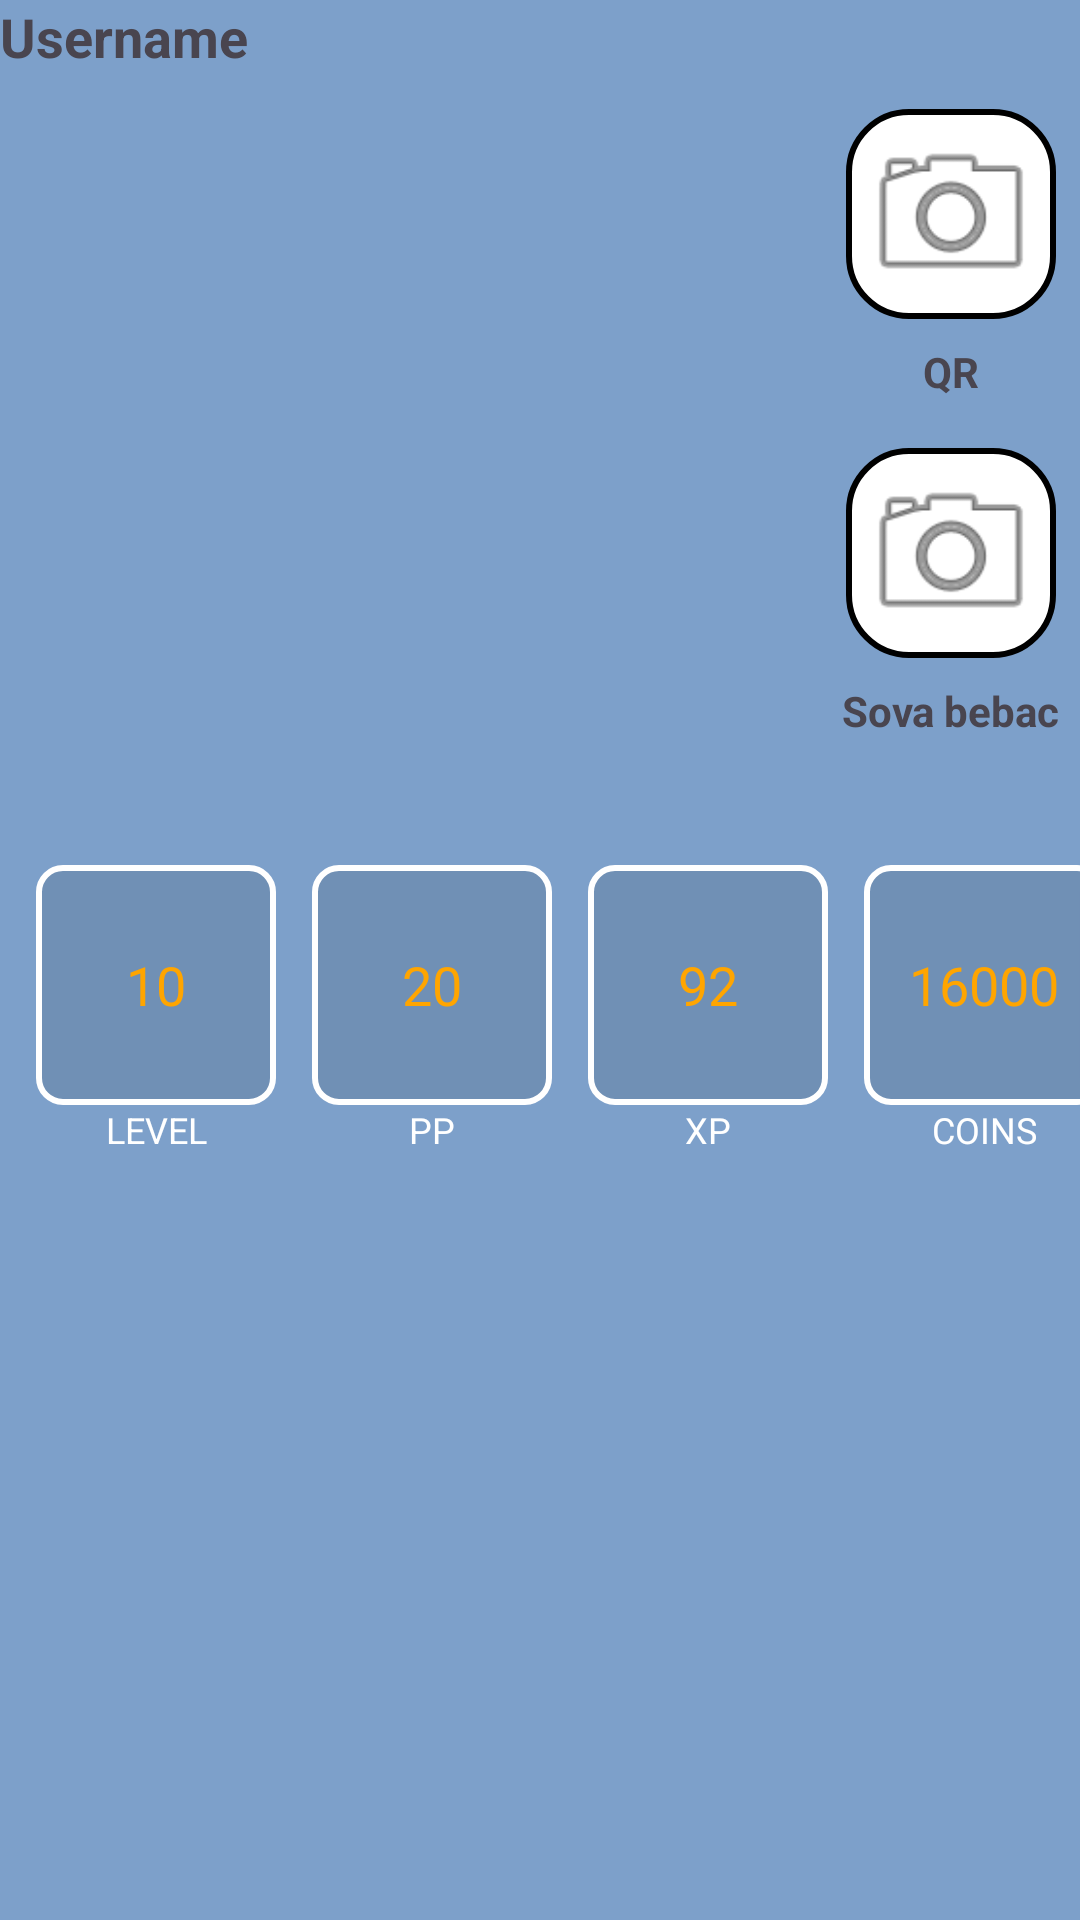

Point at icon controls on the screen. Image size 1080*1920, points as (x=x, y=y).
camera: (x=951, y=214), (x=951, y=553)
